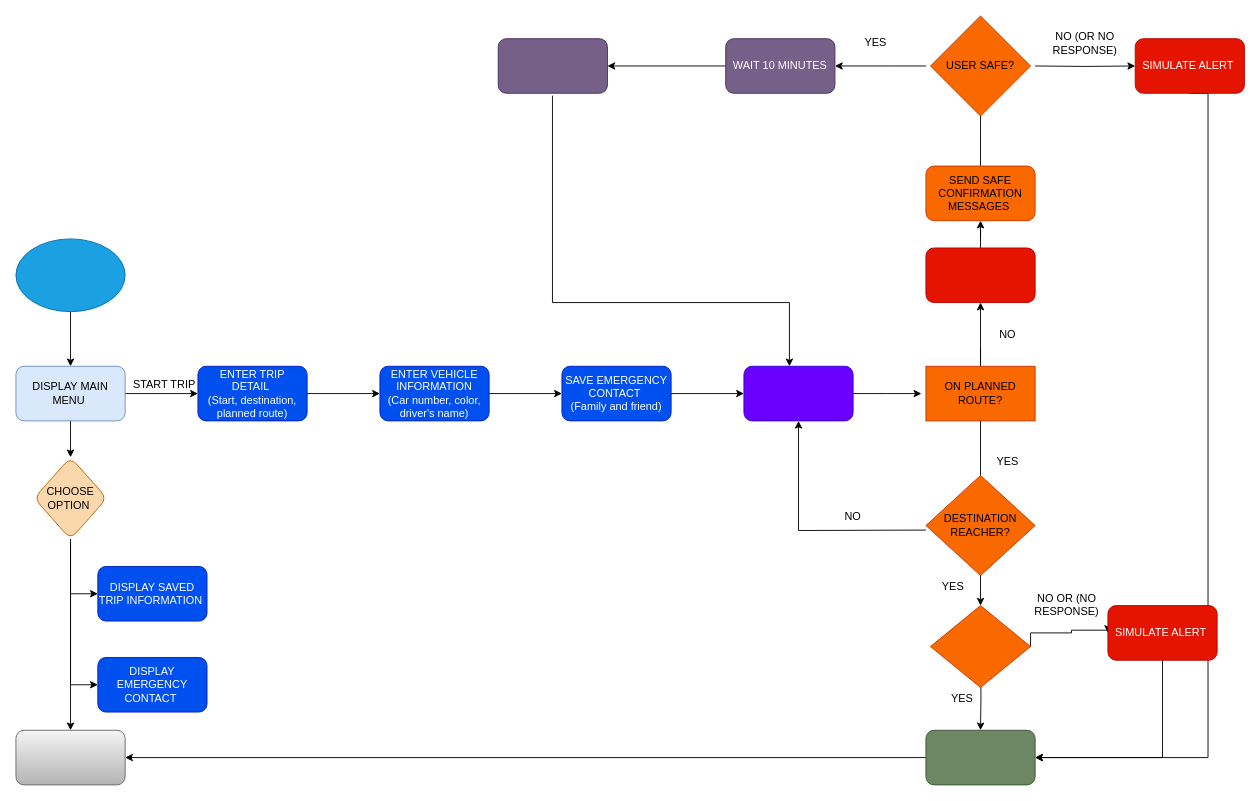
The diagram is 1260 pixels wide and 801 high, and some of its shapes have lost their labels. The shapes that lost their labels are listed below. From the top down, each one's box as (x1, y1, x2, y2) in pixels, then its label:
(497, 38, 607, 93): RECHECK ROUTE
(15, 238, 125, 312): START
(925, 247, 1035, 303): DISPLAY ROUTE WARNING
(743, 365, 853, 421): STIMULATE ROUTE CHECK
(930, 605, 1031, 688): ARRIVAL CONFIRMED?
(15, 729, 125, 785): EXIST (END PROGRAM)
(925, 729, 1035, 785): SAVE TRIP INFORMATION (to text file)
